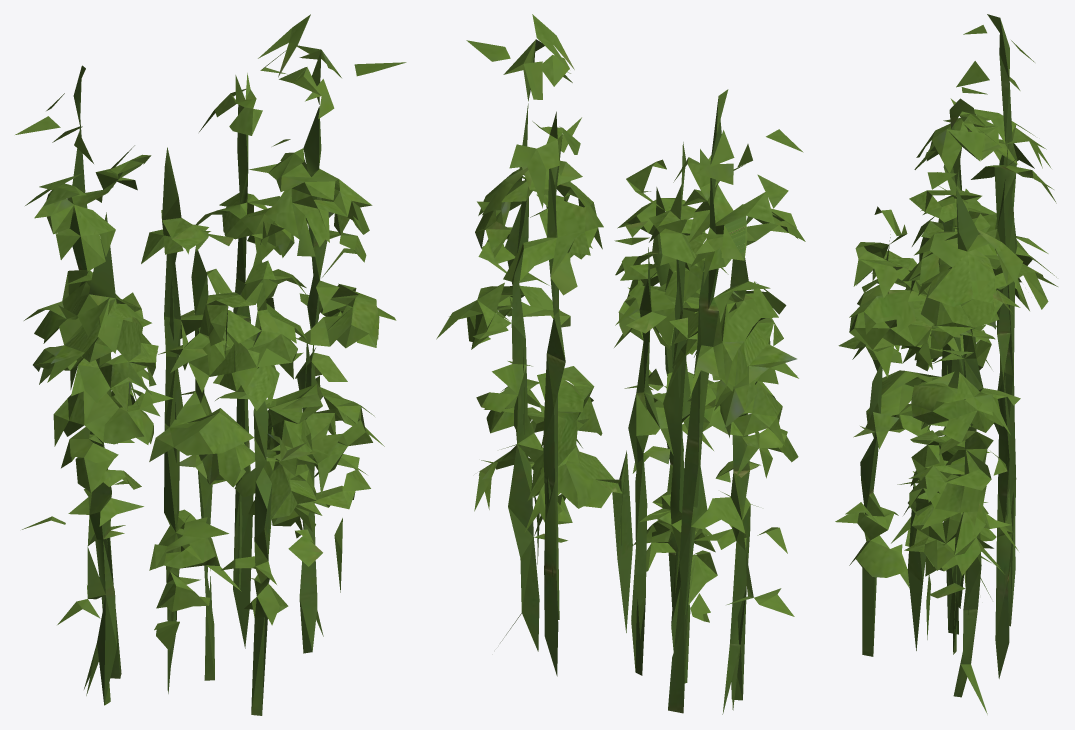
Rendered from bamboo_cluster.glb.
3 views of the same model, side by side, from view 1: azimuth 30°, elevation 25°; view 2: azimuth 150°, elevation 25°; view 3: azimuth 270°, elevation 25° (orthographic). The views are drawn at different scales.
Bounding box in the file's own units: 1.09 × 1.81 × 0.6134.
Materials: 1 (1 with a texture image).
